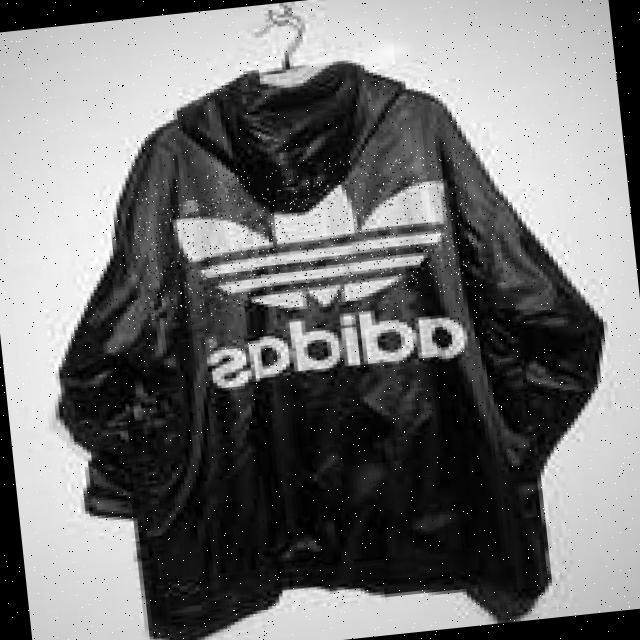Adidas: (125, 148, 478, 323)
